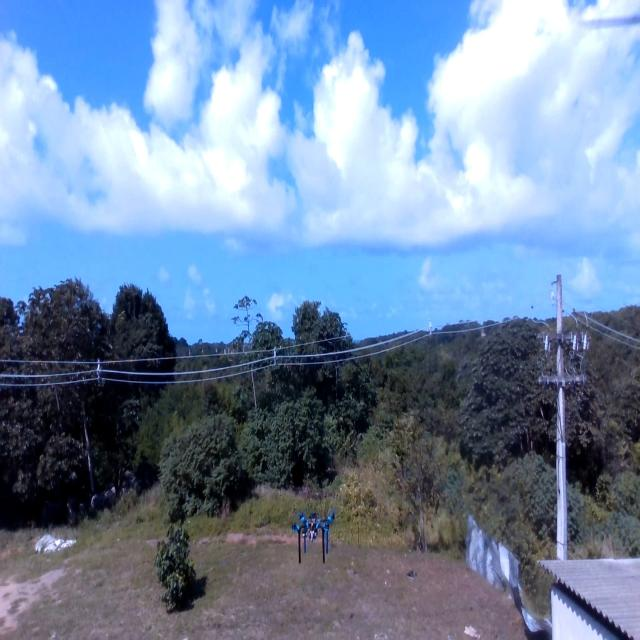-uav-: (290, 496, 343, 580)
